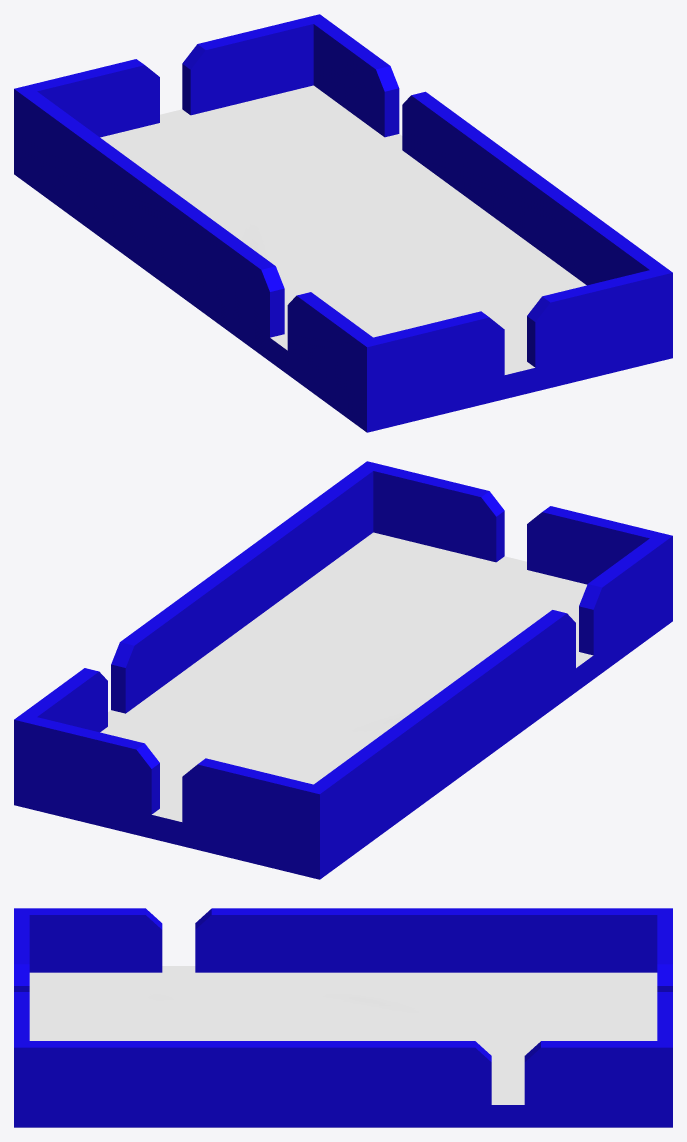
File: dungeon_tile_horizontal_x.obj
3 renders of one model, top to bottom at view 1: azimuth 30°, elevation 25°; view 2: azimuth 150°, elevation 25°; view 3: azimuth 270°, elevation 25°, orthographic. The views are drawn at different scales.
Visible parts, largest first — view 1: Room_HorizontalX_Cube.002; view 2: Room_HorizontalX_Cube.002; view 3: Room_HorizontalX_Cube.002.
Boxes of the visible parts, x1,y1,x2,y2 form: Room_HorizontalX_Cube.002: [14, 14, 672, 432]; Room_HorizontalX_Cube.002: [14, 461, 672, 879]; Room_HorizontalX_Cube.002: [14, 908, 672, 1127].
Bounding box in the file's own units: 2 × 0.5341 × 4.
Materials: 1 (1 with a texture image).
